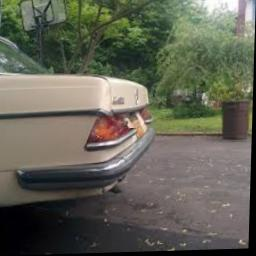Light: (81, 105, 136, 152)
